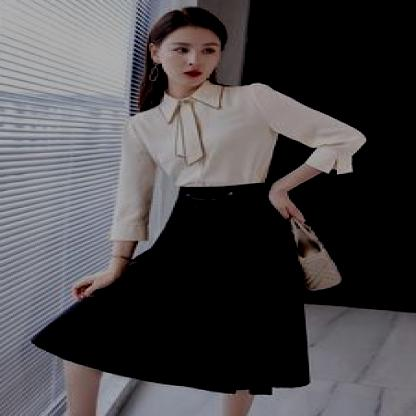dress: (28, 186, 318, 396), (107, 81, 365, 240)
